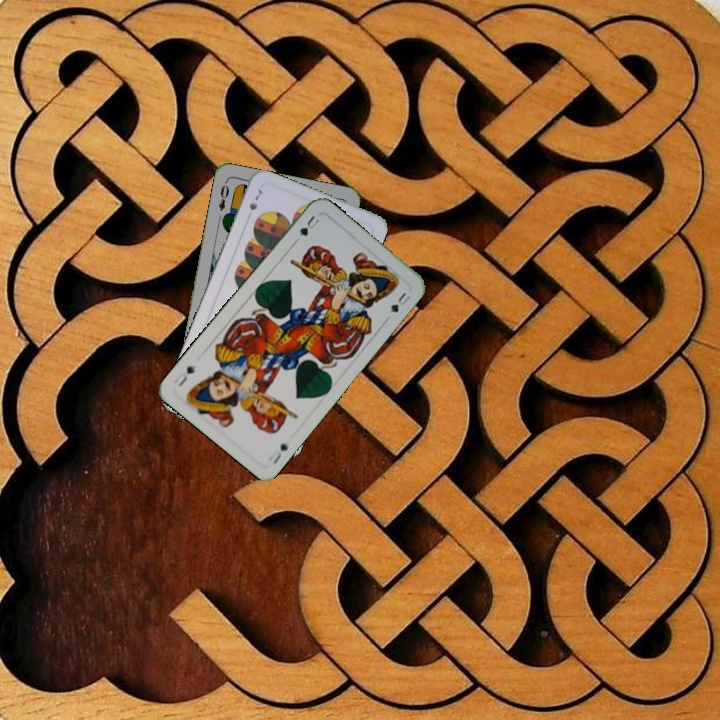EO: (214, 177, 232, 213)
GU: (295, 211, 322, 239), (265, 439, 291, 467)
S7: (245, 185, 267, 213)
